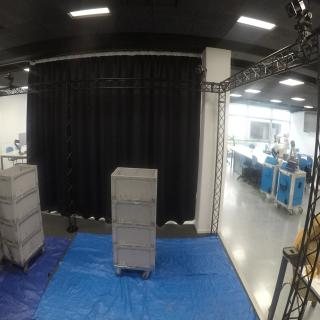Box4G: (111, 166, 160, 204), (1, 204, 43, 246), (1, 227, 45, 267), (1, 163, 40, 202), (1, 189, 41, 224), (112, 200, 159, 229), (113, 224, 159, 252), (114, 247, 158, 273)
